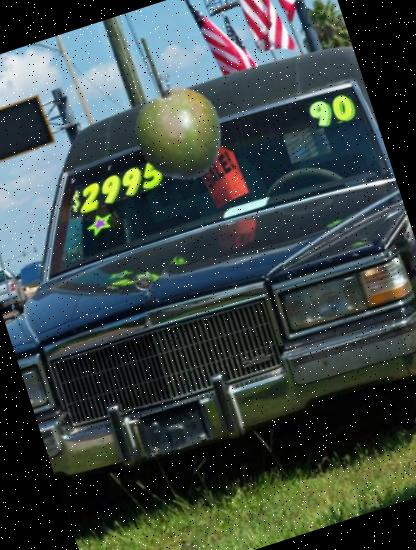Mango: (119, 73, 240, 194)
